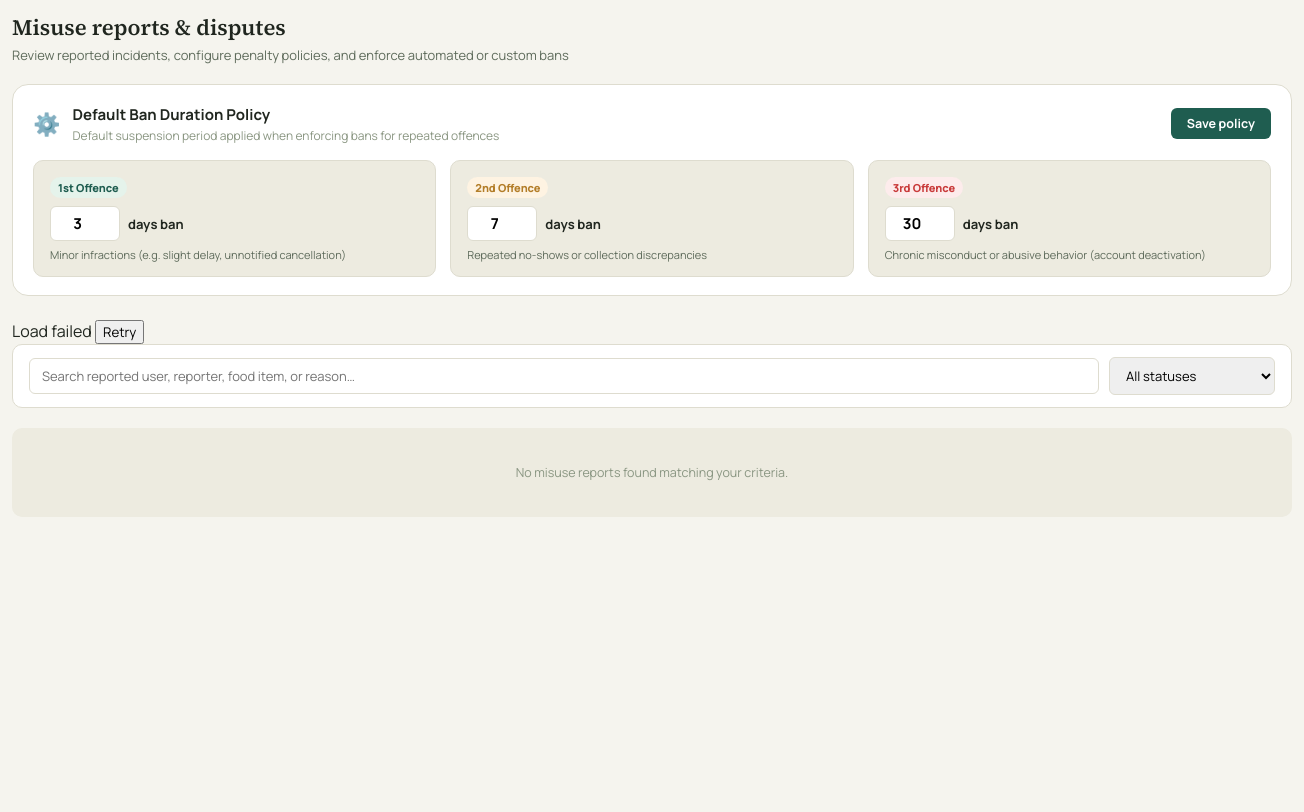
Test: shows load failure and retries real reports without demo rows
This screenshot has width=1304, height=812.
Click the button "Retry": (120, 332) [95, 320, 144, 344]
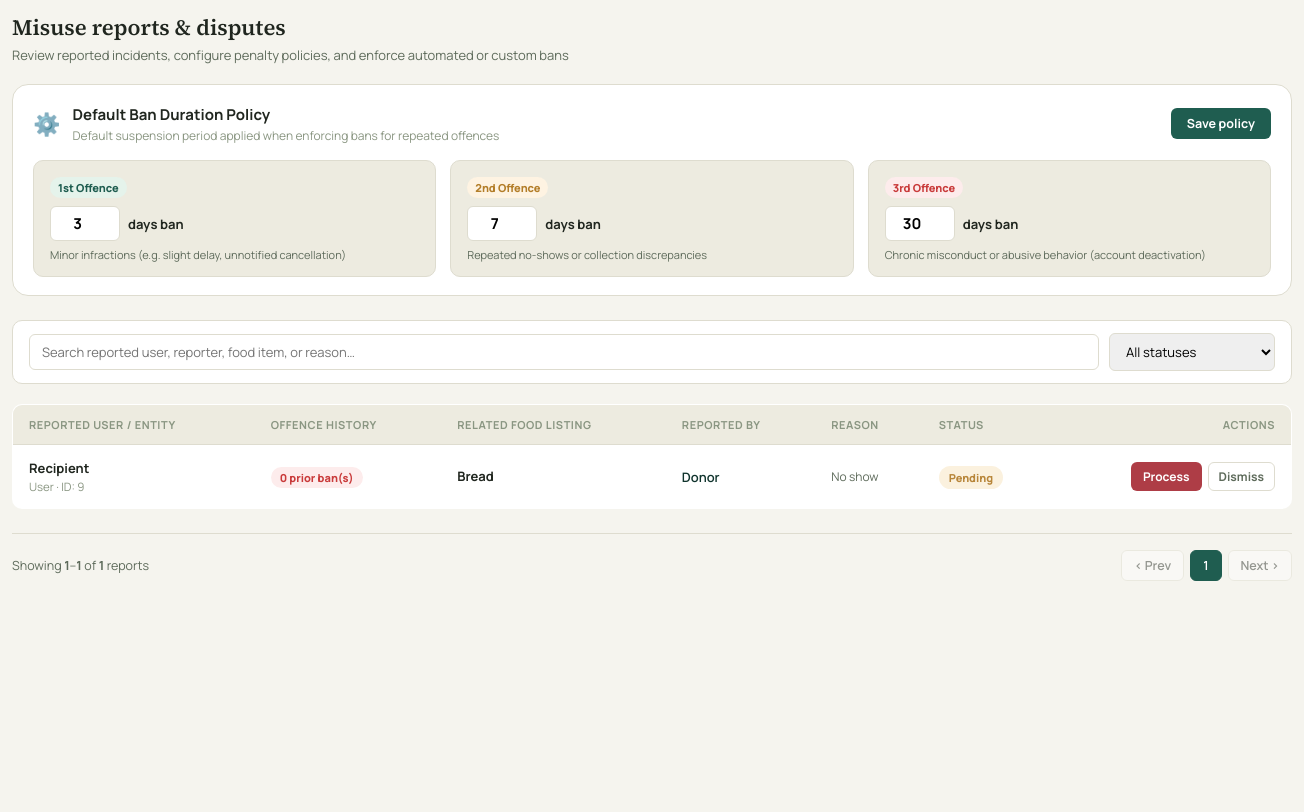
expect the text "Recipient" is shown: met, box [29, 459, 89, 477]
expect the text "Load failed" is gone: met
